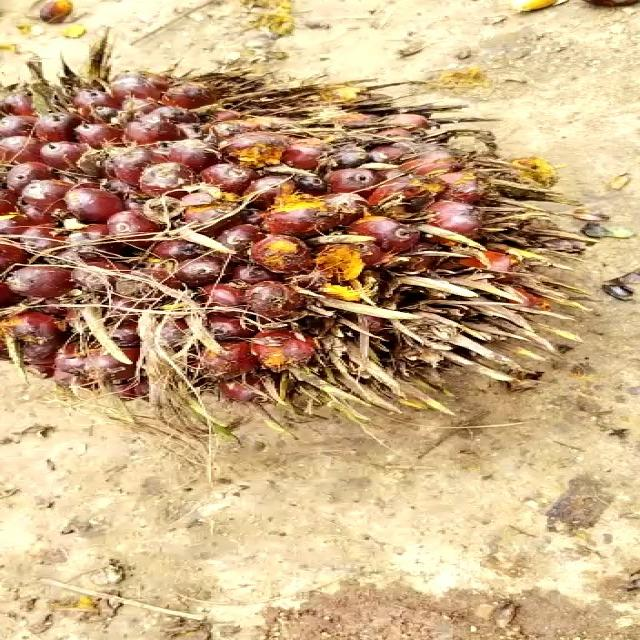palm oil: (0, 49, 561, 423)
